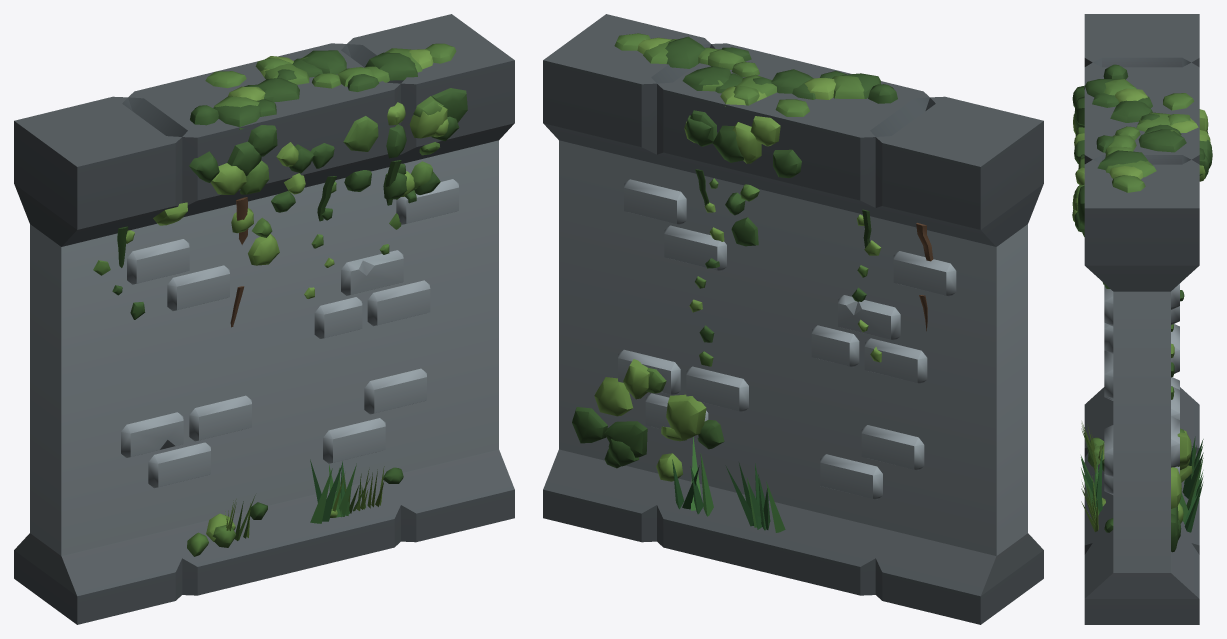
File: wall_mossy_D.glb
3 renders of one model, left to right at view 1: azimuth 30°, elevation 25°; view 2: azimuth 150°, elevation 25°; view 3: azimuth 270°, elevation 25°, orthographic. The views are drawn at different scales.
Visible parts, largest first — view 1: Item; view 2: Item; view 3: Item.
Boxes of the visible parts, x1=… form: Item: x1=14, y1=14, x2=514, y2=624; Item: x1=543, y1=14, x2=1043, y2=624; Item: x1=1072, y1=14, x2=1212, y2=624.
Size of the model in its own units: 4 by 4.11 by 1.22.
Materials: 3 (3 with a texture image).
